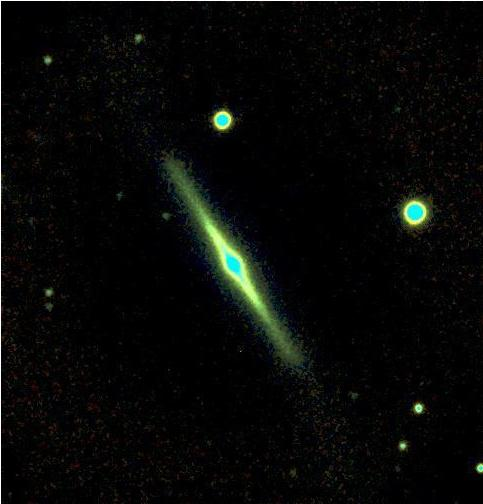star: (278, 456, 308, 486)
